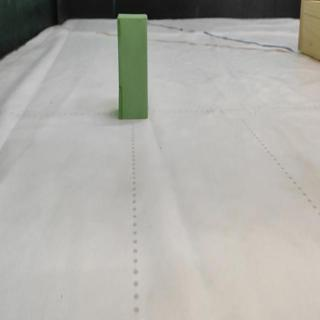greenbox: (116, 13, 150, 121)
